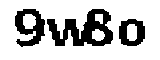8: (91, 5, 117, 50)
9: (7, 3, 44, 52)
o: (119, 12, 149, 48)
w: (46, 19, 89, 50)
